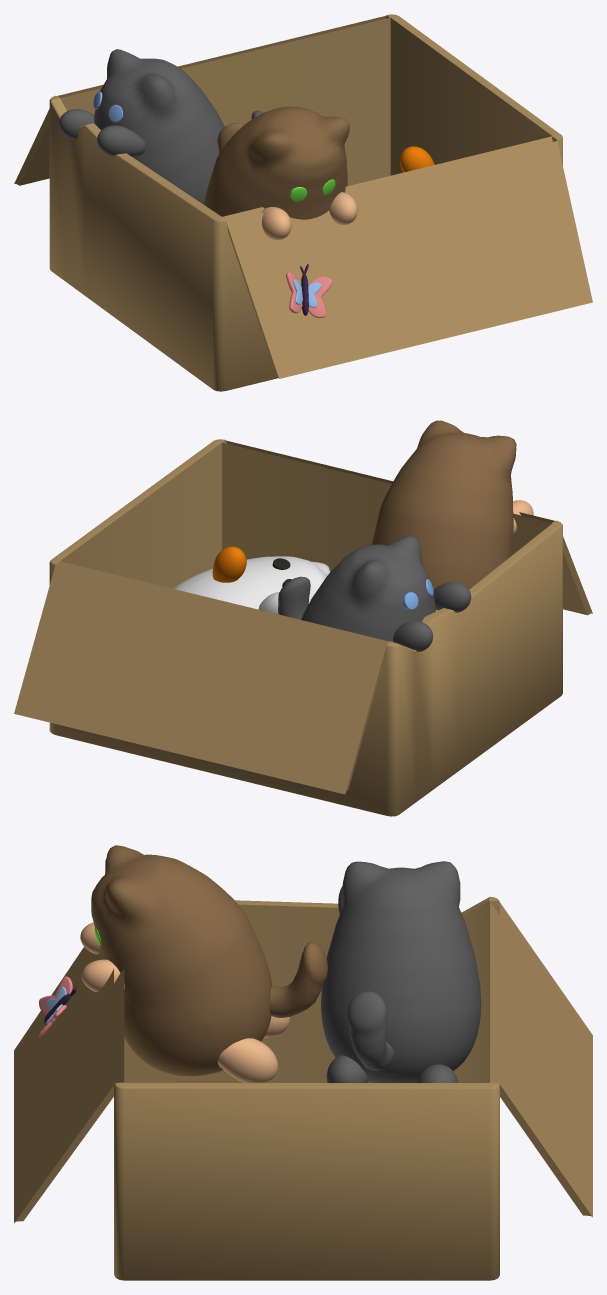
Rendered from CATSINNABOXMEOW.fbx.
3 views of the same model, one above another, from view 1: azimuth 30°, elevation 25°; view 2: azimuth 150°, elevation 25°; view 3: azimuth 270°, elevation 25° (orthographic). The views are drawn at different scales.
Visible parts, largest first — view 1: Cube, Sphere.005, BezierCurve.004, Sphere.015, Sphere.007, Circle.003; view 2: Cube, BezierCurve.004, Sphere.005, Sphere.006, Sphere.007; view 3: Cube, BezierCurve.004, Sphere.005, Sphere.015.
Boxes of the visible parts, x1,y1,x2,y2 form: Cube: (14,14,592,391); Sphere.005: (59,49,263,204); BezierCurve.004: (204,106,349,219); Sphere.015: (261,192,357,240); Sphere.007: (400,146,434,172); Circle.003: (308,276,332,318); Cube: (14,439,592,816); BezierCurve.004: (371,420,516,589); Sphere.005: (278,535,471,651); Sphere.006: (173,556,330,609); Sphere.007: (212,546,246,582); Cube: (14,896,592,1280); BezierCurve.004: (91,845,327,1076); Sphere.005: (321,861,481,1082); Sphere.015: (80,922,290,1082).
Size of the model in its own units: 237 by 155 by 292.
